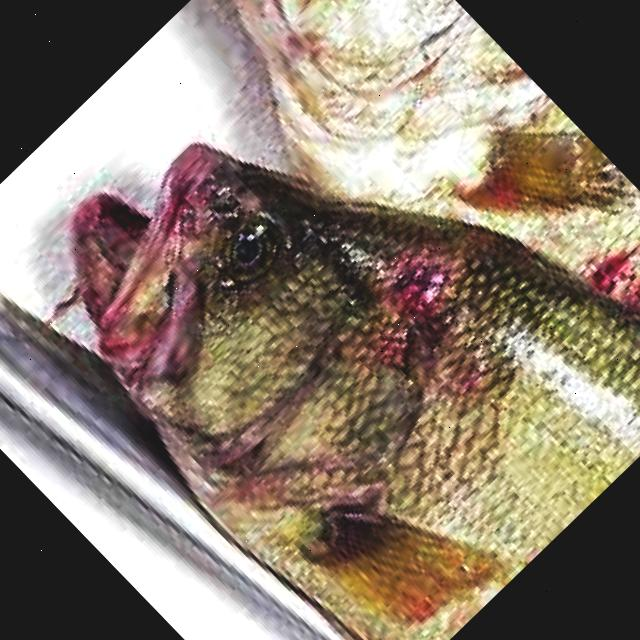Epizootic Ulcerative Syndrome -EUS-: (54, 144, 640, 640)
